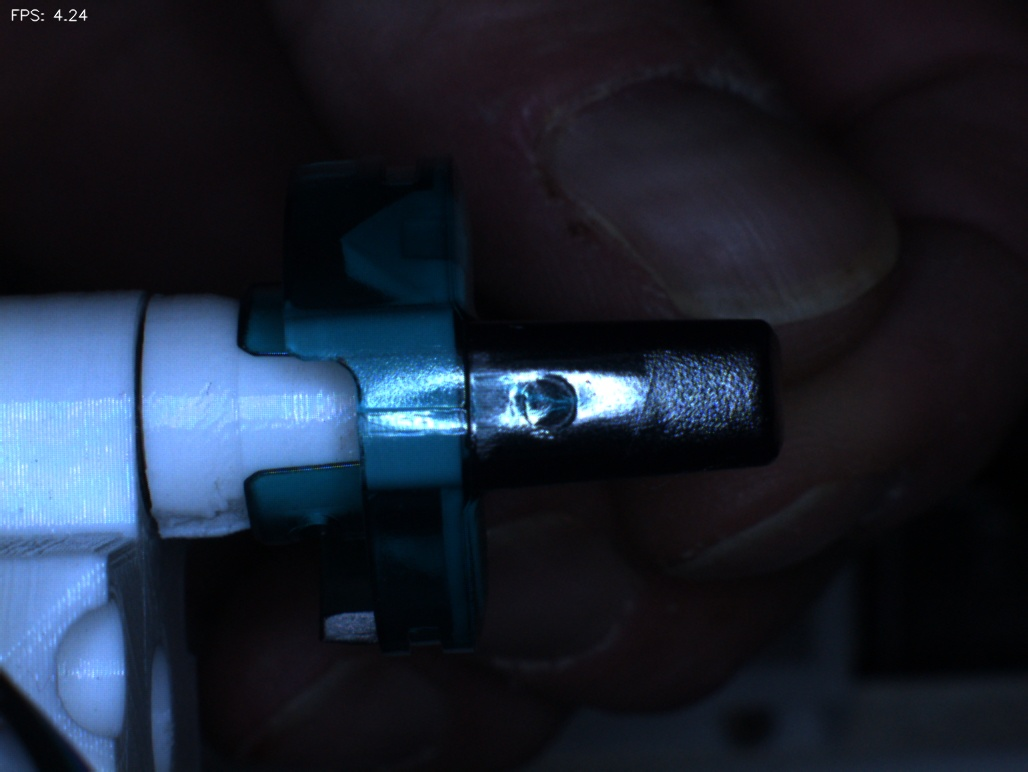DentOk: (311, 204, 390, 299)
